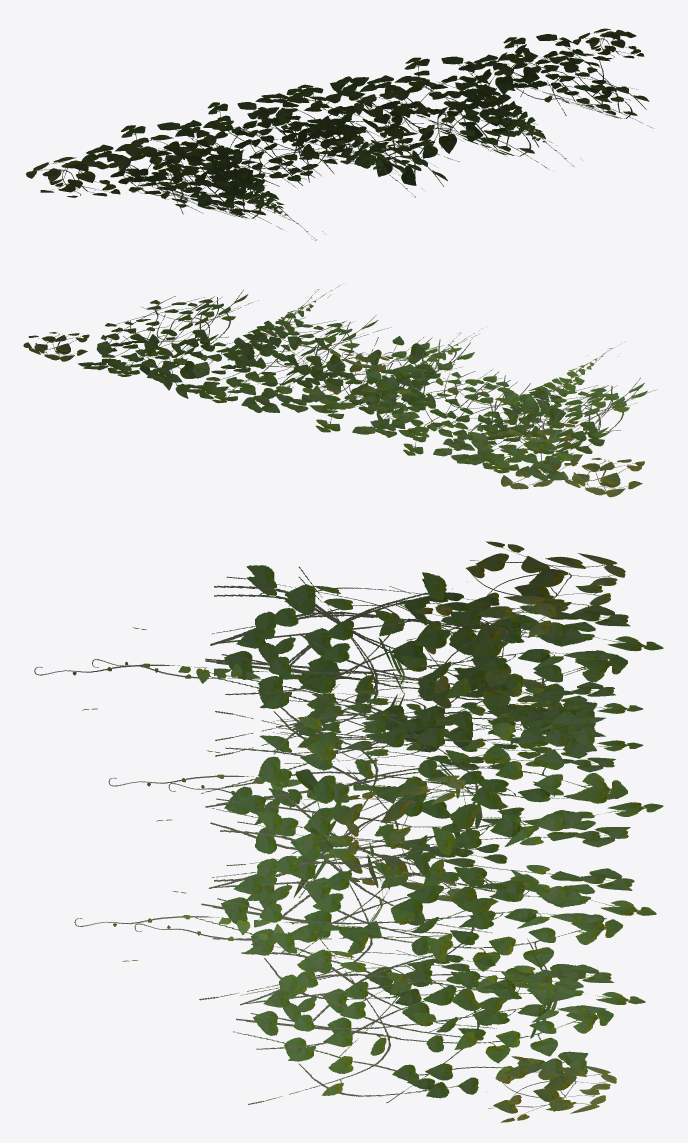
Rendered from vine01_wall_painting.dae.
3 renders of one model, top to bottom at view 1: azimuth 30°, elevation 25°; view 2: azimuth 150°, elevation 25°; view 3: azimuth 270°, elevation 25°, orthographic. The views are drawn at different scales.
Visible parts, largest first — view 1: vine01_wall_paint_a150, vine01_wall_paint_a80; view 2: vine01_wall_paint_a150, vine01_wall_paint_a80; view 3: vine01_wall_paint_a150, vine01_wall_paint_a80.
Boxes of the visible parts, x1=… form: vine01_wall_paint_a150: x1=26, y1=28, x2=654, y2=240; vine01_wall_paint_a80: x1=114, y1=146, x2=284, y2=230; vine01_wall_paint_a150: x1=23, y1=283, x2=656, y2=497; vine01_wall_paint_a80: x1=451, y1=377, x2=644, y2=473; vine01_wall_paint_a150: x1=34, y1=541, x2=663, y2=1122; vine01_wall_paint_a80: x1=205, y1=565, x2=624, y2=756.
Bounding box in the file's own units: 3.82 × 1.88 × 0.477.
